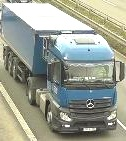truck: (2, 3, 125, 134)
